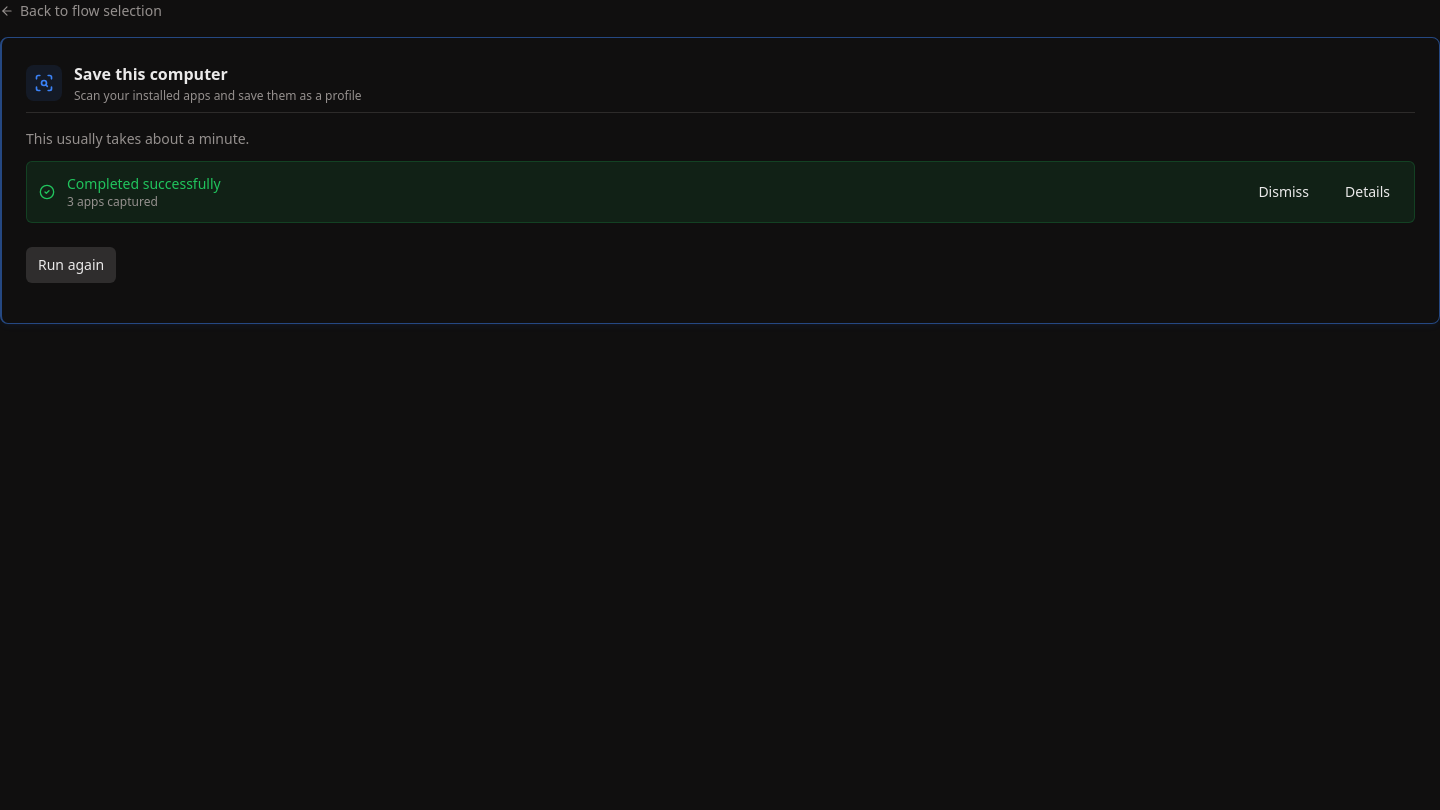
Capture Details Modal - Detected vs Skipped › REGRESSION: Capture Details shows "Detected" not "Skipped" for captured apps
Click the button "Details" at [1368, 192], box [1333, 174, 1402, 210]
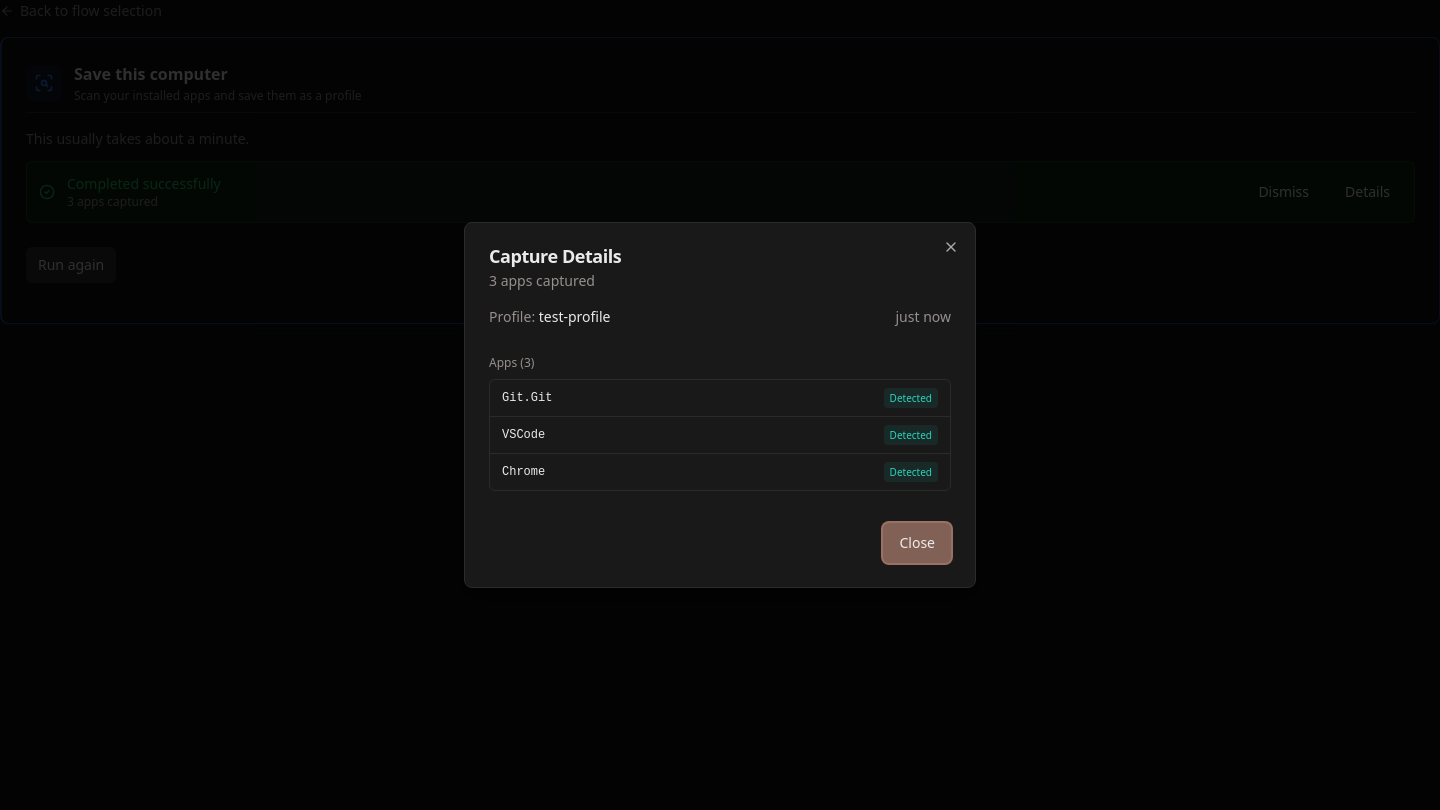
expect the heading "Capture Details" is shown: met, box [489, 244, 621, 268]
expect the text "Detected" is shown 3 times: met, box [884, 388, 938, 408]; [884, 425, 938, 445]; [884, 462, 938, 482]
expect the text "Git.Git" is shown: met, box [502, 391, 552, 405]
